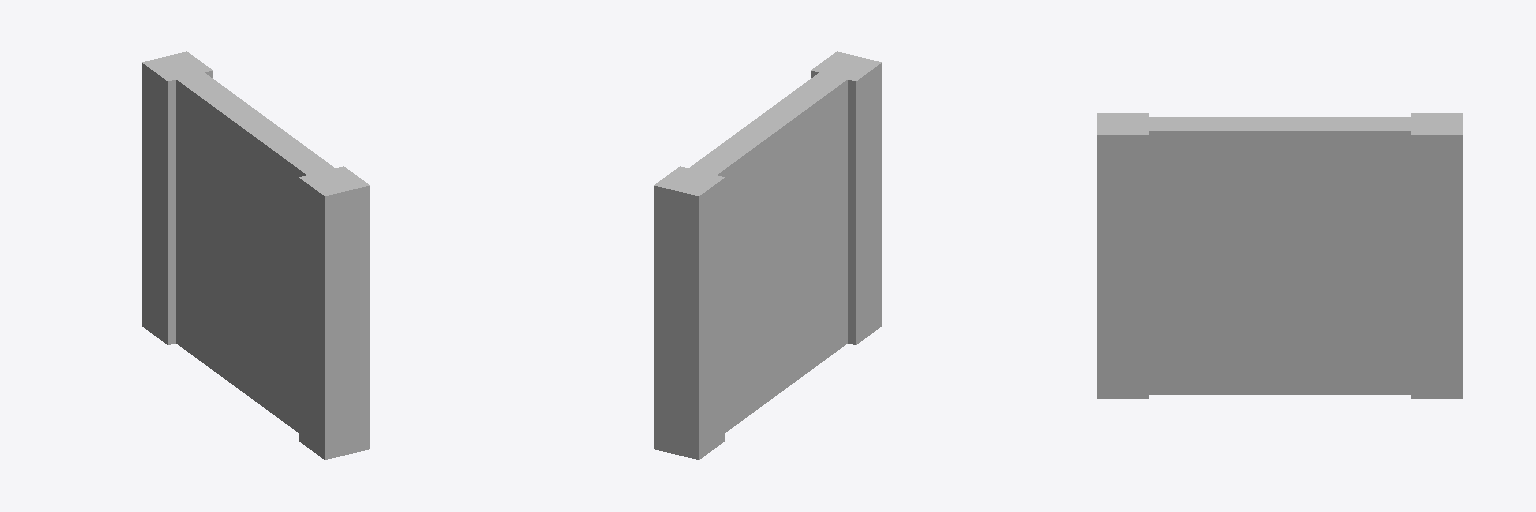
Rendered from dungeon_wall_bottom.obj.
3 renders of one model, left to right at view 1: azimuth 30°, elevation 25°; view 2: azimuth 150°, elevation 25°; view 3: azimuth 270°, elevation 25°, orthographic.
Visible parts, largest first — view 1: wall, pillar; view 2: wall, pillar; view 3: wall, pillar.
Boxes of the visible parts, <box> form: wall: <box>176,73,334,432</box>; pillar: <box>142,51,369,459</box>; wall: <box>689,73,847,432</box>; pillar: <box>654,51,881,459</box>; wall: <box>1149,117,1410,394</box>; pillar: <box>1097,113,1462,398</box>.
Bounding box in the file's own units: 1 × 5.57 × 7.